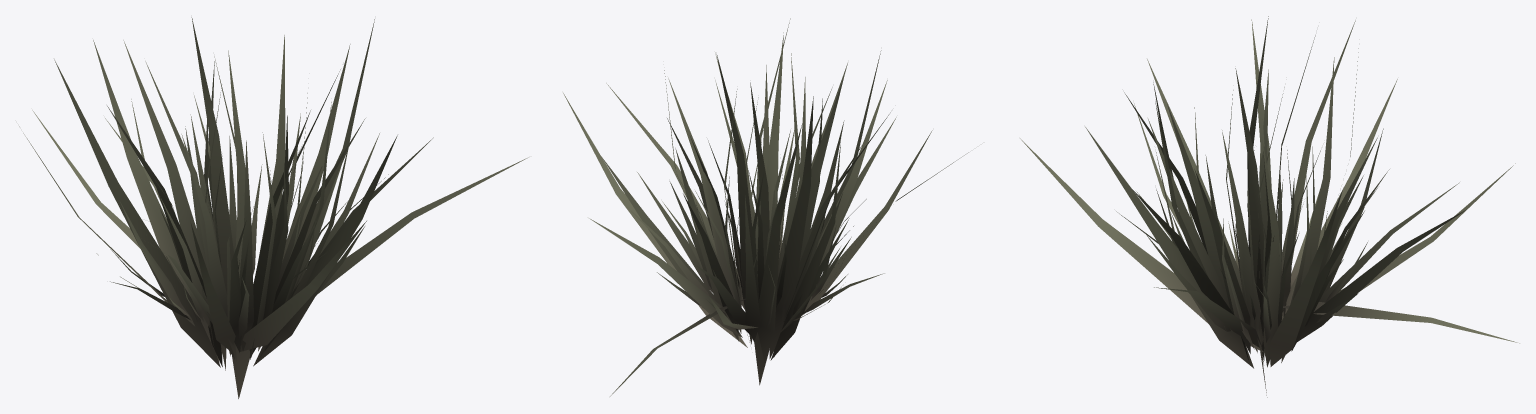
File: trees-grasses-grey-grass-tuft_v1.glb
The picture shows the model from 3 angles, left to right: view 1: azimuth 30°, elevation 25°; view 2: azimuth 150°, elevation 25°; view 3: azimuth 270°, elevation 25°; orthographic projection. The views are drawn at different scales.
Visible parts, largest first — view 1: Grey Grass Tuft_v1; view 2: Grey Grass Tuft_v1; view 3: Grey Grass Tuft_v1.
Boxes of the visible parts, x1,y1,x2,y2 form: Grey Grass Tuft_v1: [19, 17, 528, 398]; Grey Grass Tuft_v1: [563, 18, 968, 396]; Grey Grass Tuft_v1: [1020, 16, 1519, 397].
Size of the model in its own units: 0.3644 by 0.301 by 0.4.
